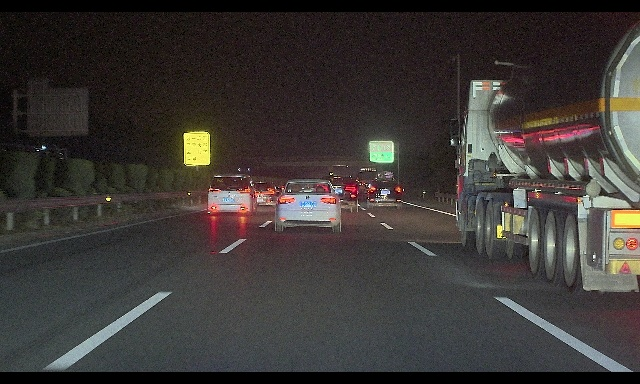car: (274, 179, 344, 233), (207, 173, 259, 216), (319, 174, 360, 213), (366, 178, 403, 209), (248, 180, 283, 208)
truck: (449, 16, 640, 298), (366, 171, 395, 201), (356, 166, 381, 195)
